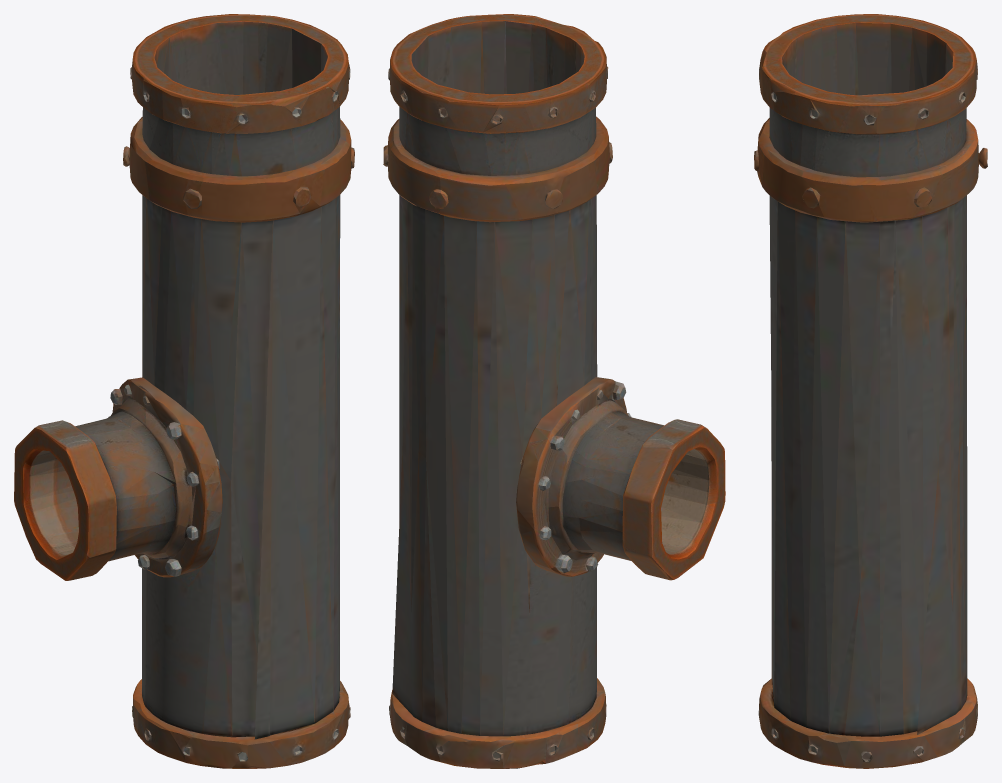
Rendered from cano-low.glb.
3 renders of one model, left to right at view 1: azimuth 30°, elevation 25°; view 2: azimuth 150°, elevation 25°; view 3: azimuth 270°, elevation 25°, orthographic.
Size of the model in its own units: 0.8518 by 1.9 by 0.6051.
Materials: 1 (1 with a texture image).
